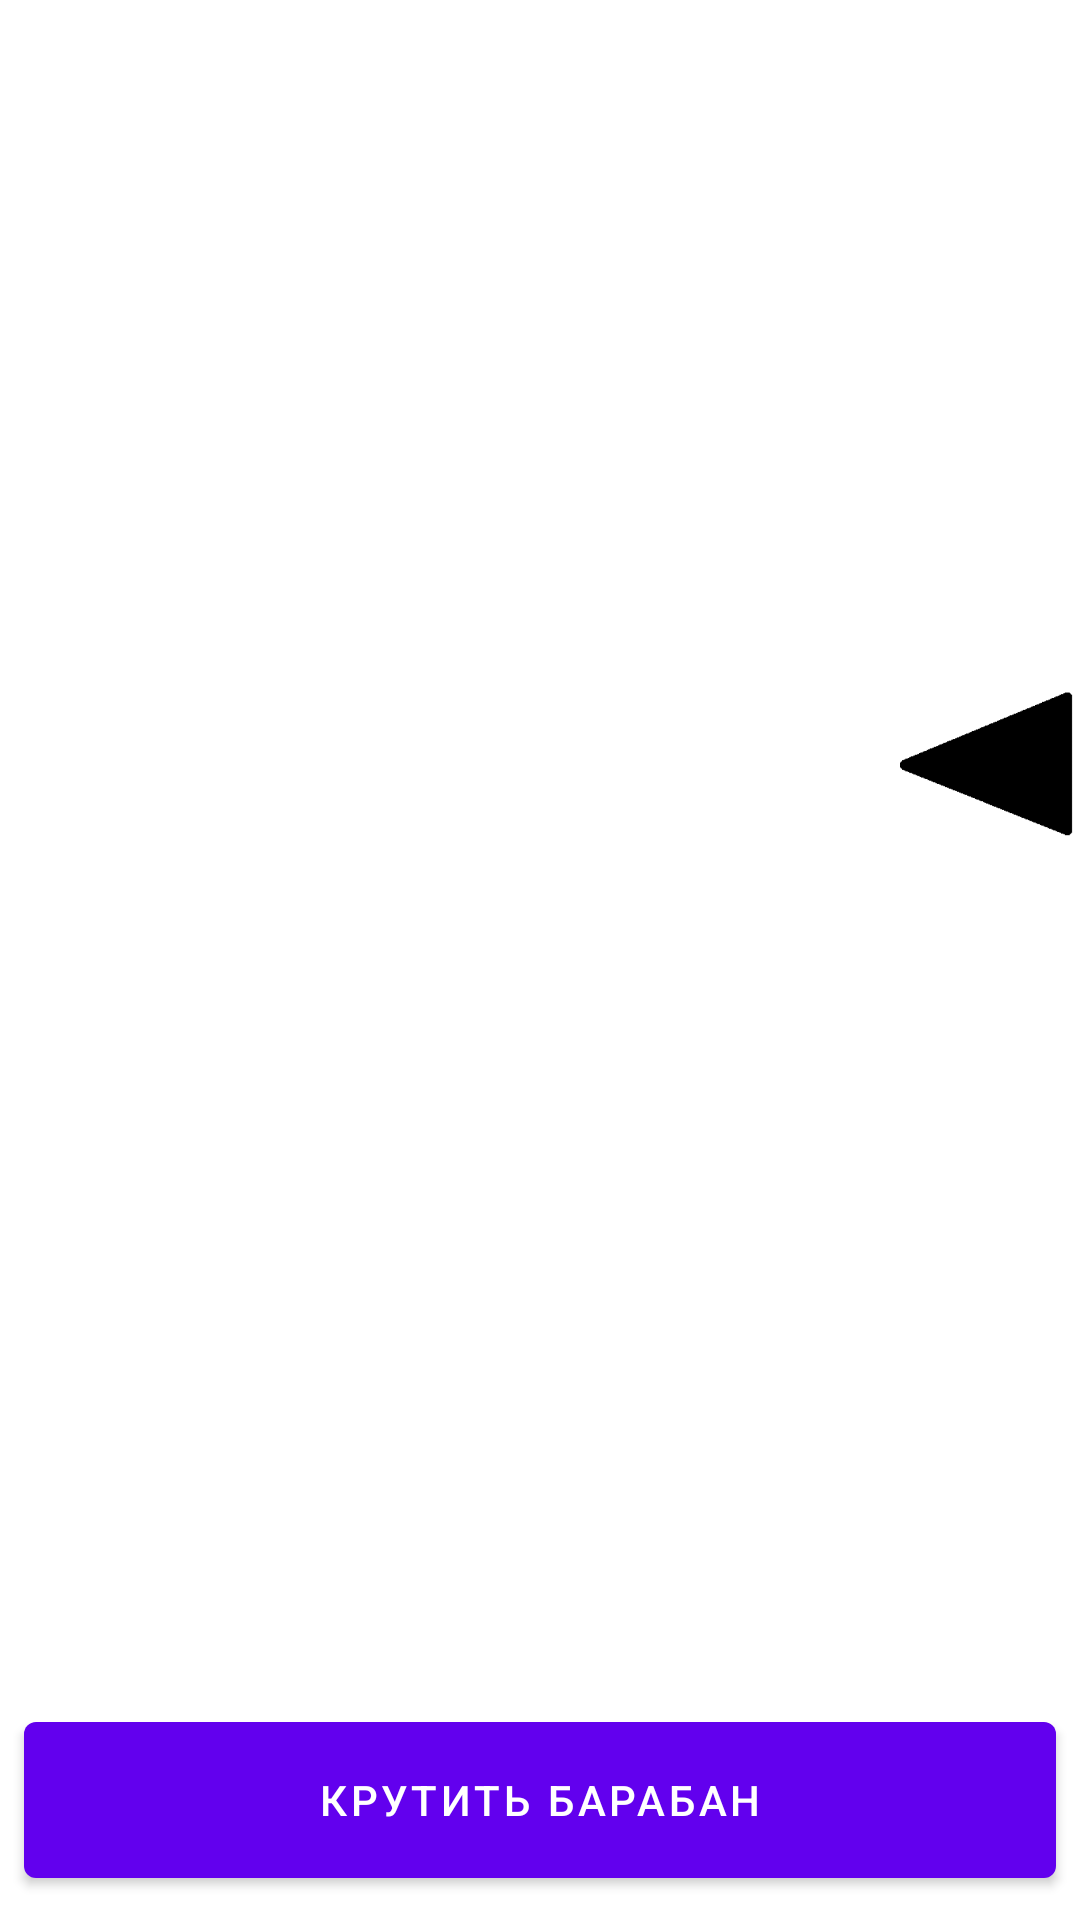

Icons on this 1080x1920 Android screen, each with its box as BBox(x1, y1, x2, y2):
arrow mark: BBox(900, 692, 1073, 836)
